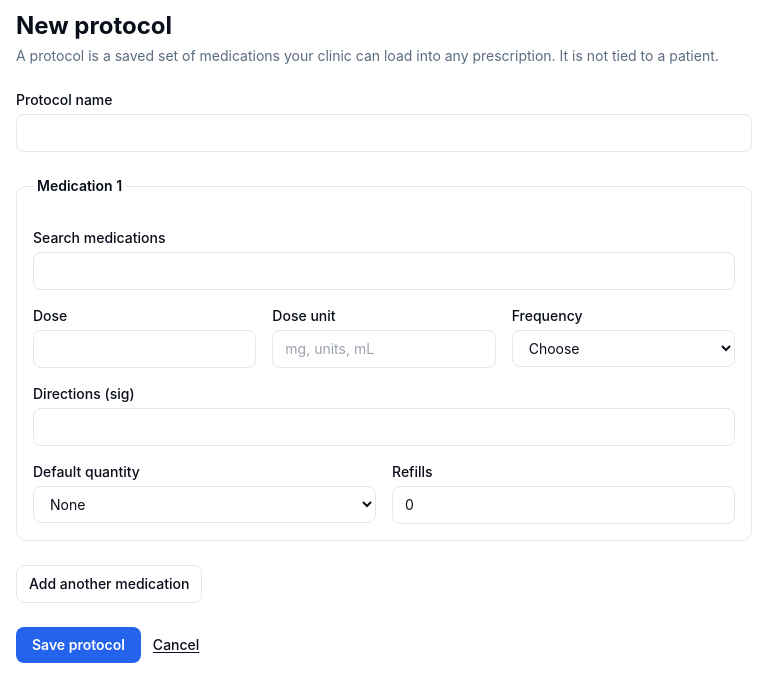
it: needs a name and at least one complete medication
Click the button "Save protocol": x=78, y=645 top-left (16, 627), bottom-right (141, 663)
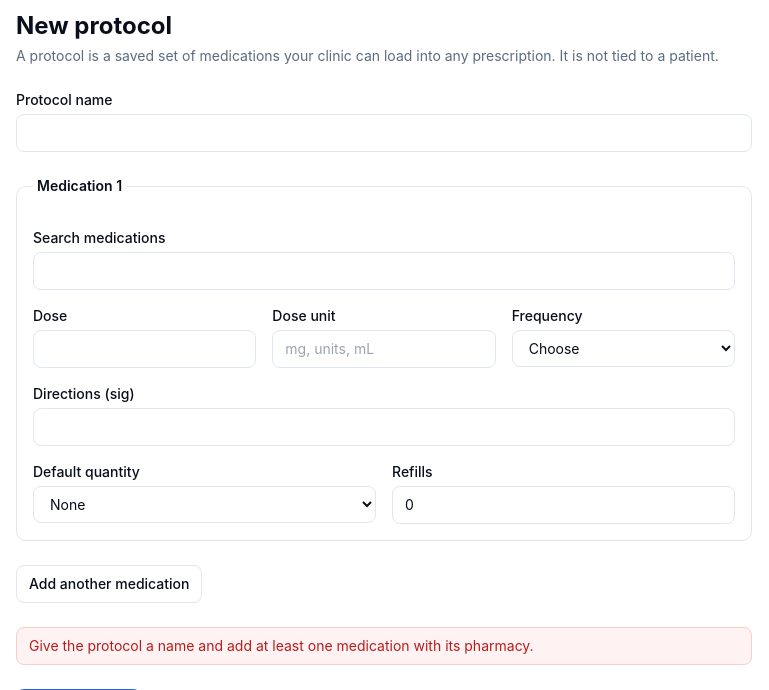
Now the message reads "Give the protocol a name and add at least one medication with its pharmacy.", box top-left (29, 637), bottom-right (534, 654)
